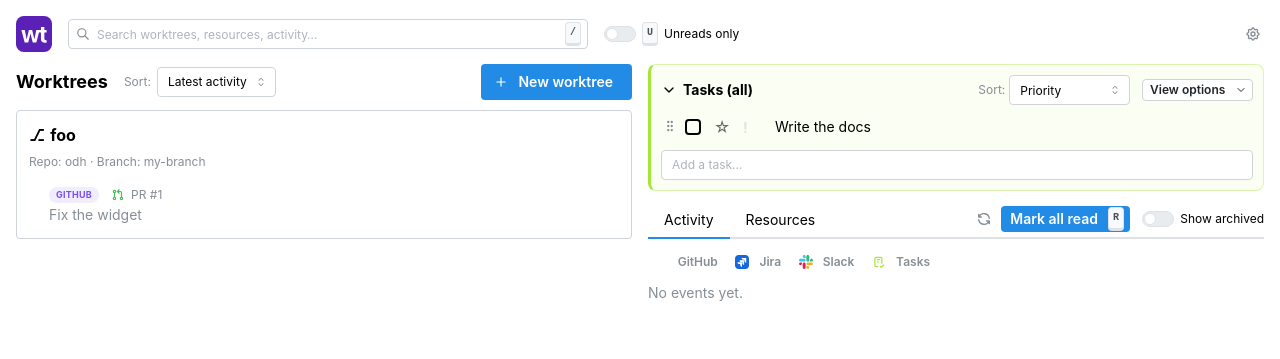
HomePage mark all read › is hidden while a source filter narrows the feed
Expected: the button "Mark all read R" is shown, [1001,206,1130,232]
Click the button "GitHub" at (687, 262), box [648,251,726,273]
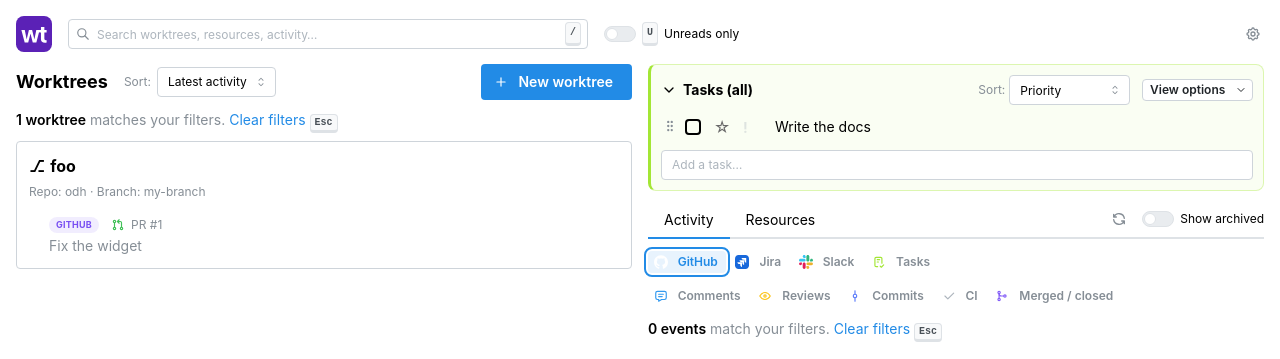
Now the button "Mark all read" is gone
